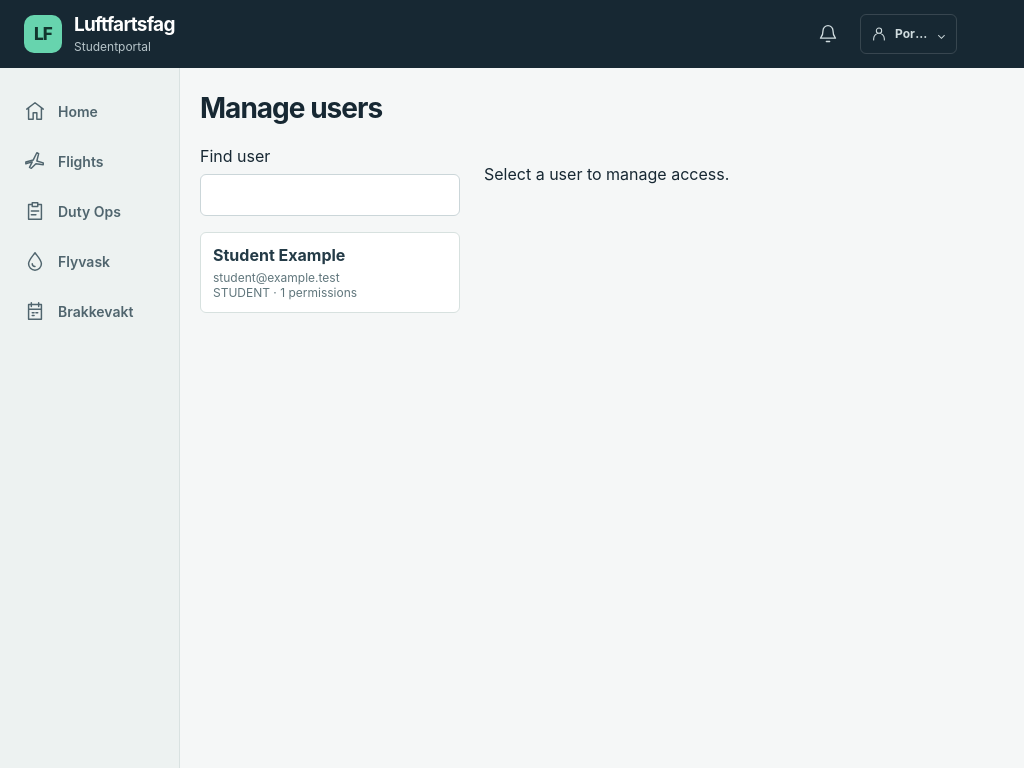
Test: admin access editor › shows FlightLogger names first and searches first, last, full name and email
This screenshot has width=1024, height=768.
Expected: the text "Student Example" is shown, left=213, top=245, right=345, bottom=265
Expected: the element that starts with "student@example.test" is shown, left=213, top=270, right=340, bottom=285
Step 1. Type "Student" into the search field with id "user-search" → point(330, 195), box left=200, top=174, right=460, bottom=216
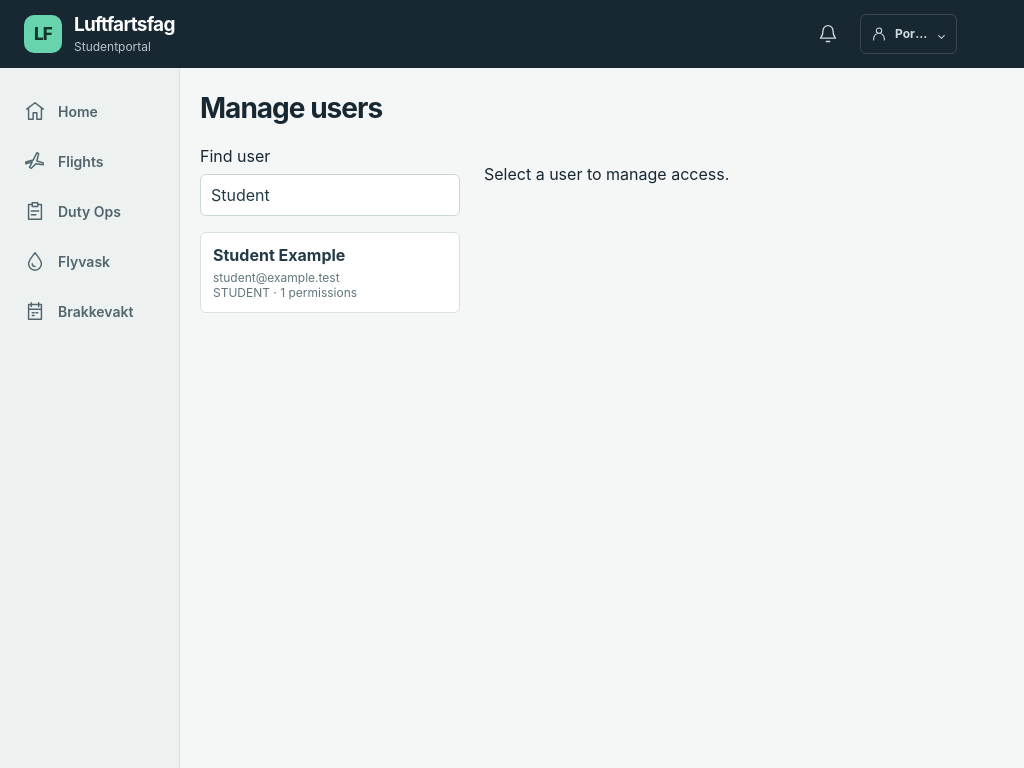
Expected: the number of list items is 1, left=200, top=232, right=460, bottom=313
Step 2. Replace the text in the search field with id "user-search" with "Example" → point(330, 195), box left=200, top=174, right=460, bottom=216
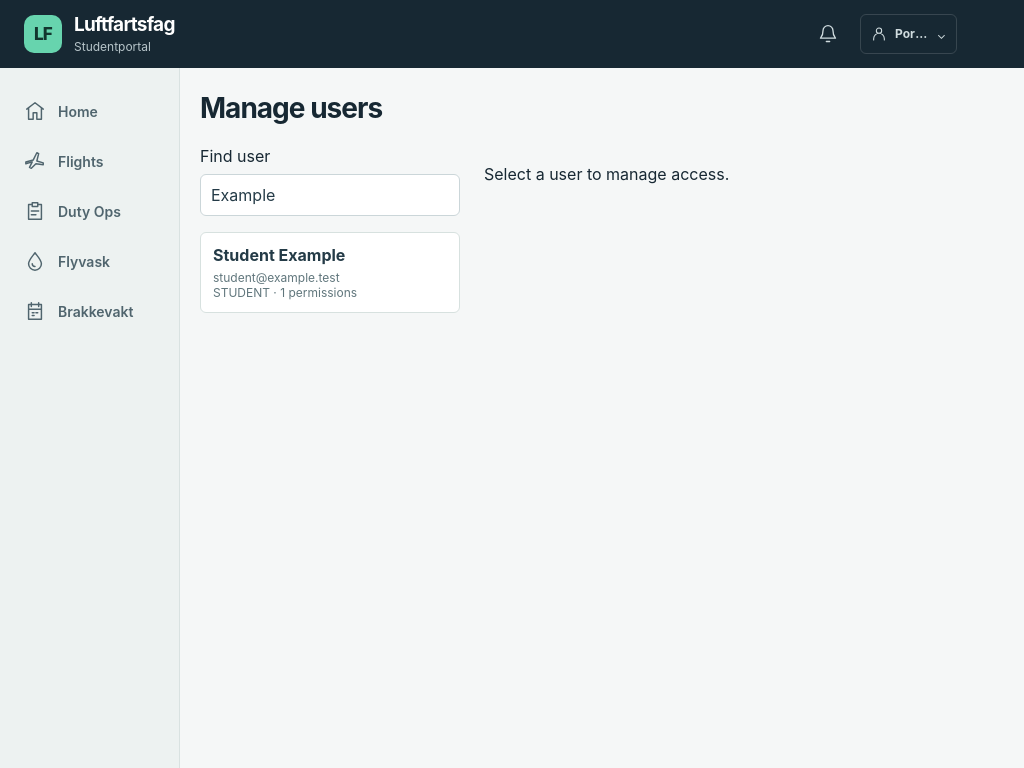
Expected: the number of list items is 1, left=200, top=232, right=460, bottom=313
Step 3. Replace the text in the search field with id "user-search" with "student example" → point(330, 195), box left=200, top=174, right=460, bottom=216
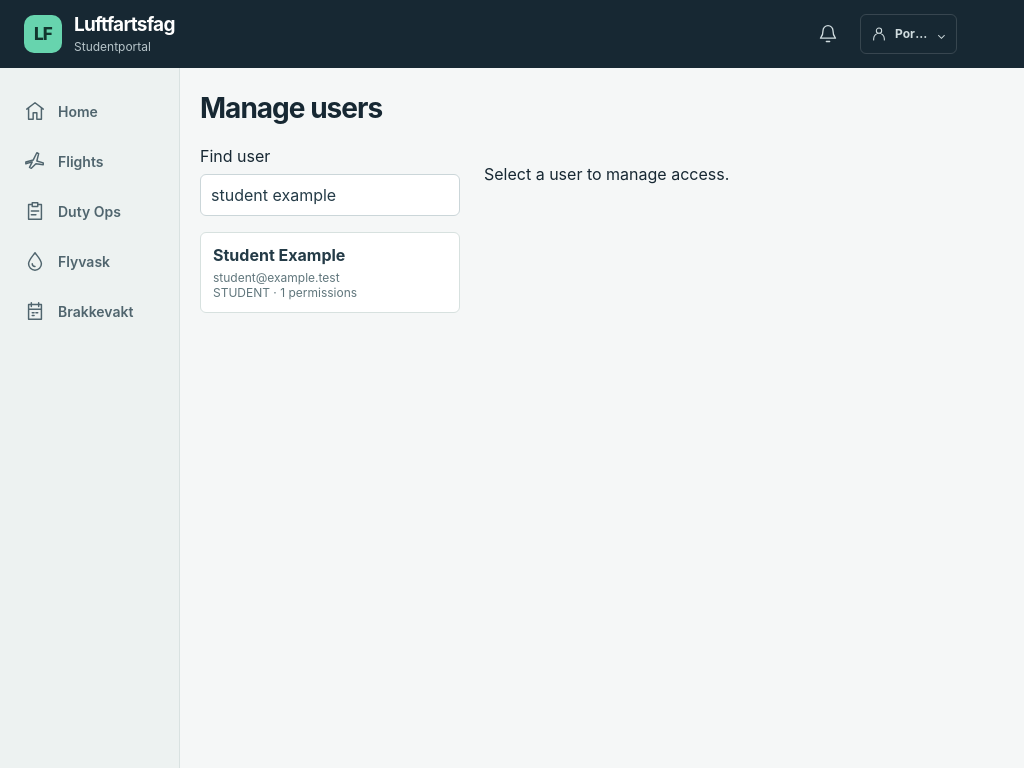
Expected: the number of list items is 1, left=200, top=232, right=460, bottom=313
Step 4. Replace the text in the search field with id "user-search" with "student@example.test" → point(330, 195), box left=200, top=174, right=460, bottom=216
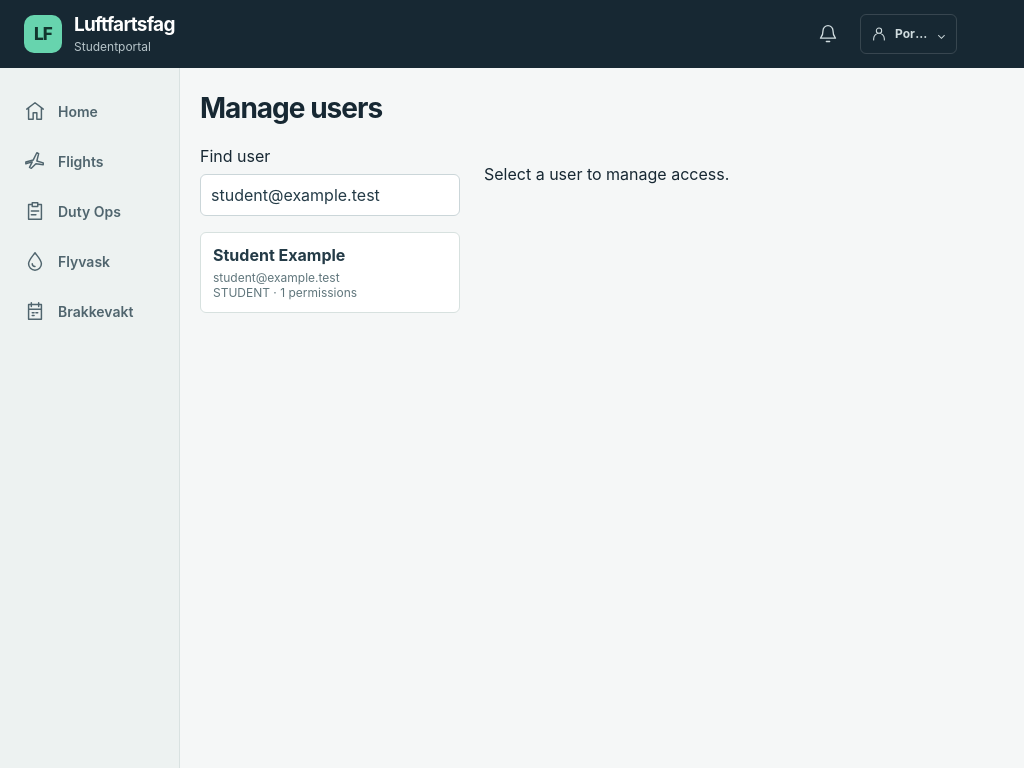
Step 5. Click the button that starts with "Student Example" → point(330, 272), box left=200, top=232, right=460, bottom=313
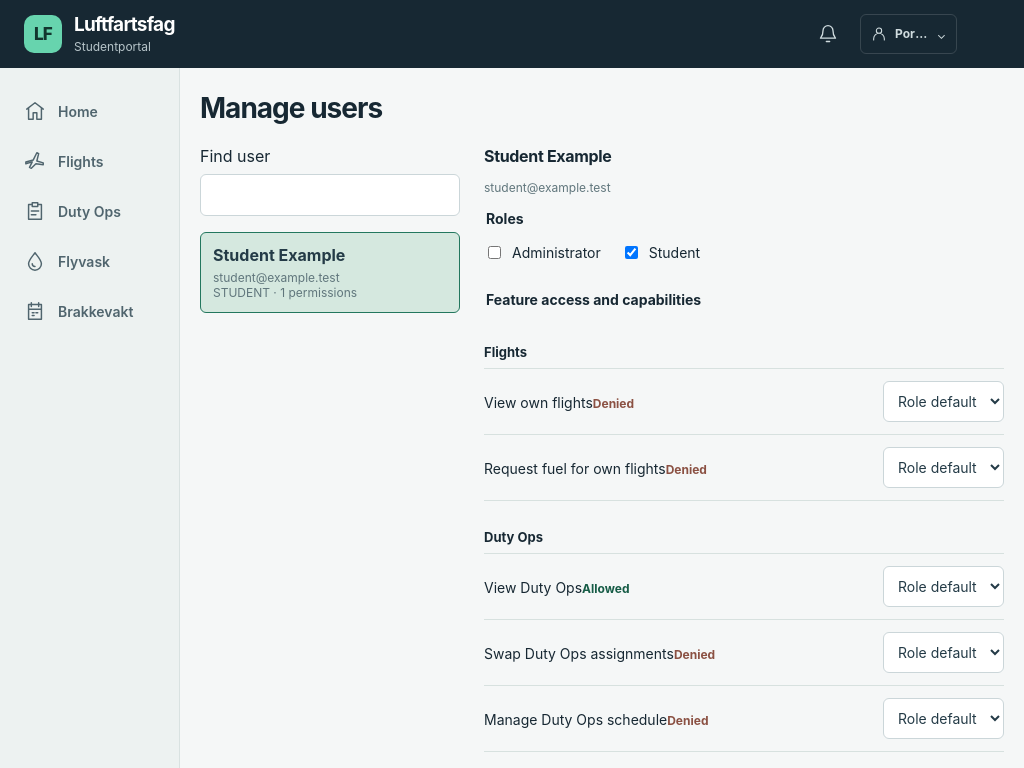
Now the heading "Student Example" is shown, box left=484, top=146, right=612, bottom=166
Now the text with class "small-note" reads "student@example.test", box left=484, top=180, right=611, bottom=195
